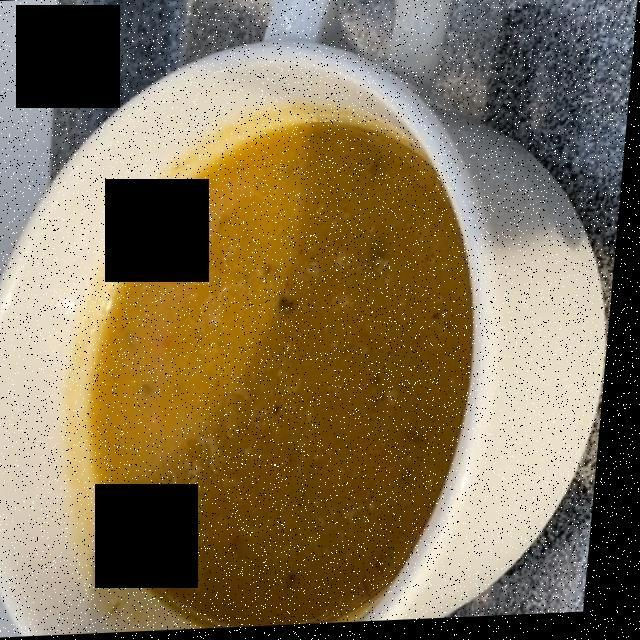soup: (94, 123, 476, 619)
